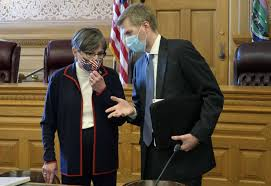Bad: (42, 3, 223, 186)
